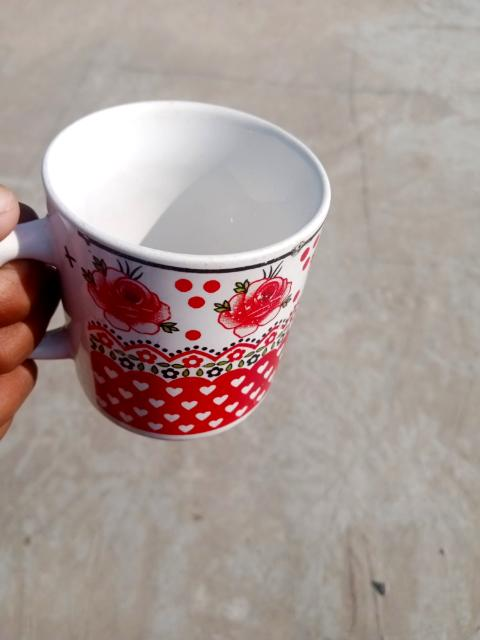Cup: (0, 102, 330, 439)
